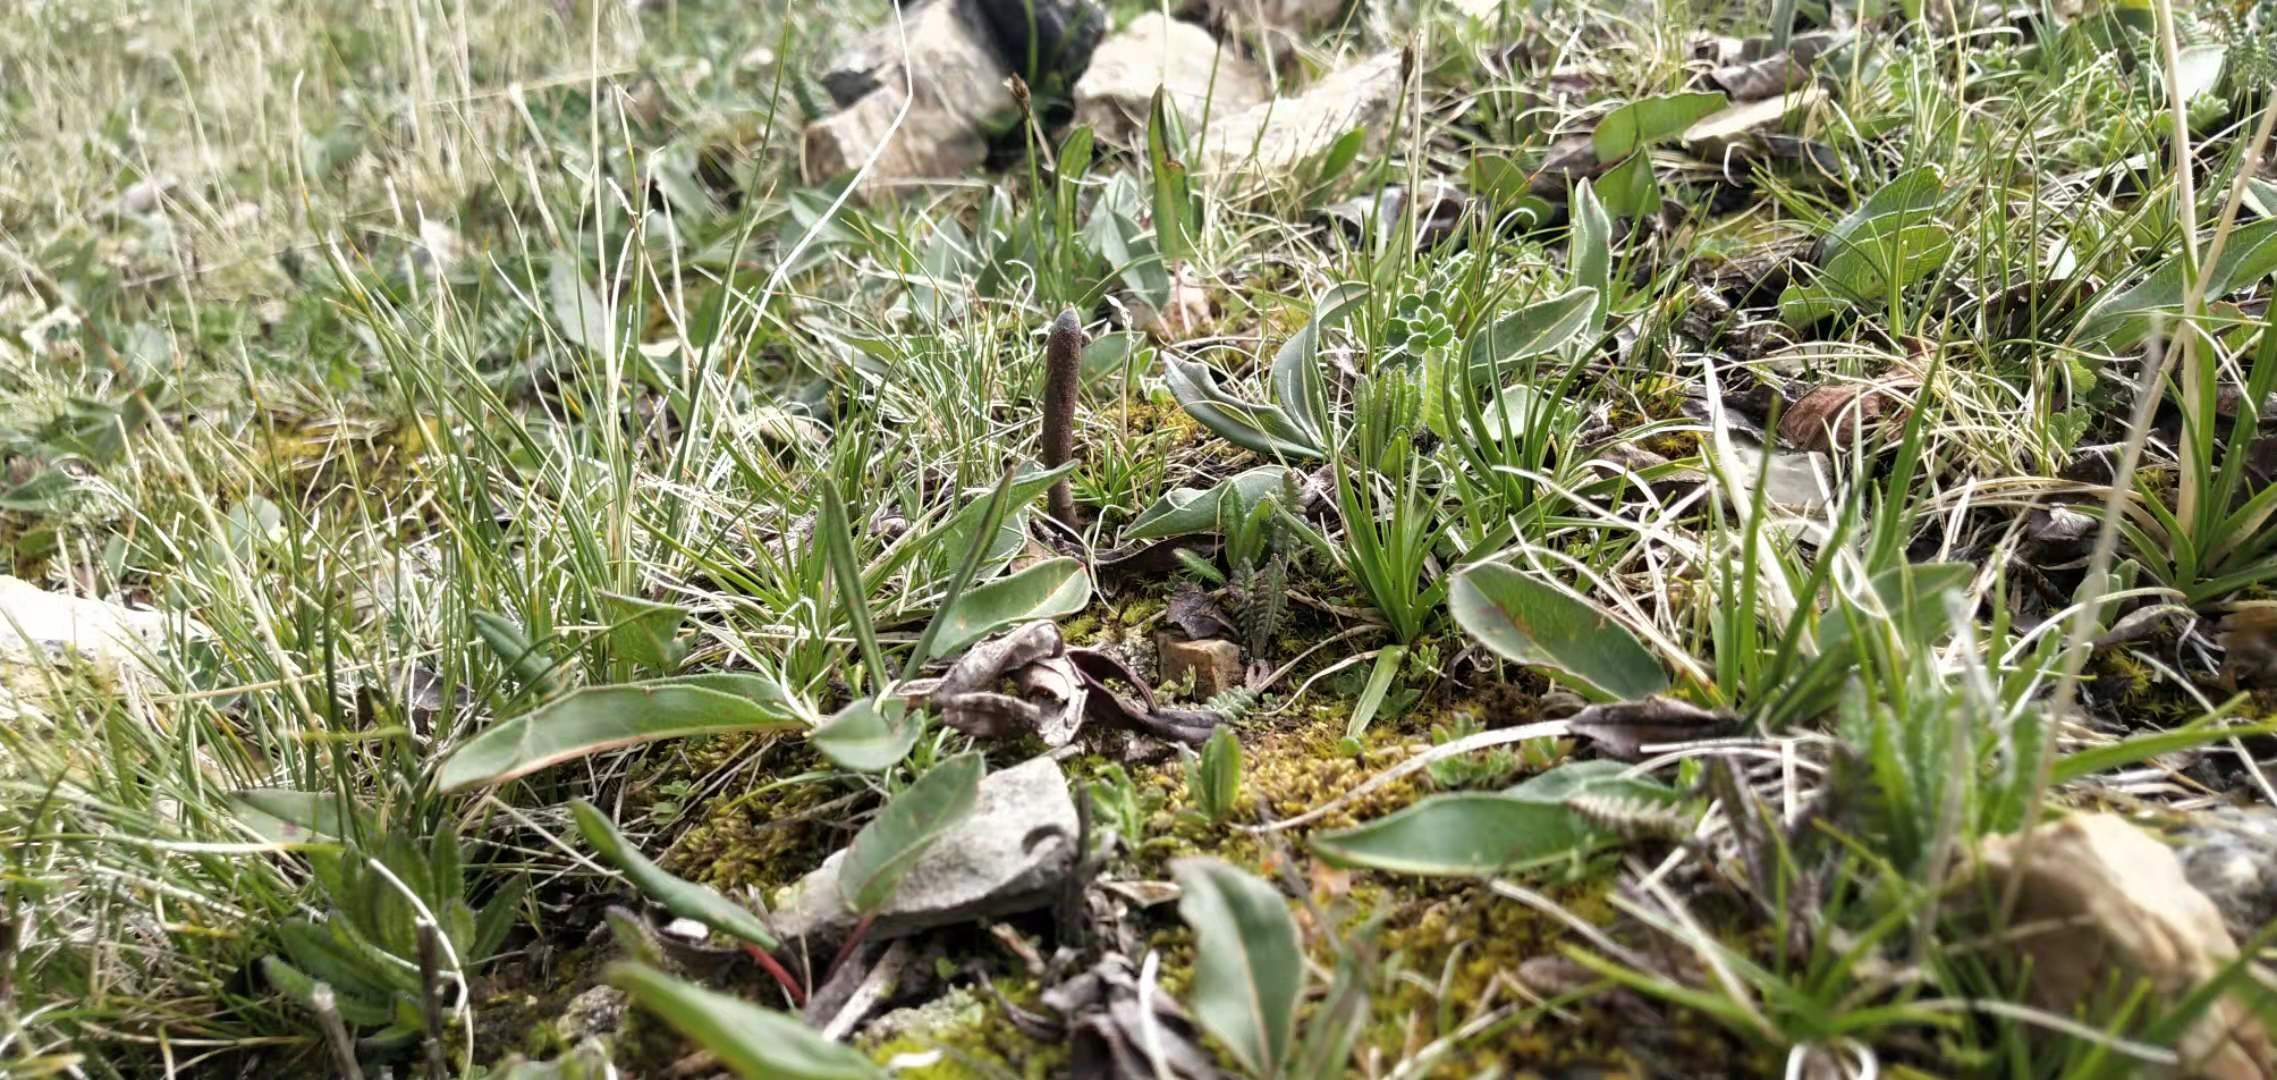Chongcao: (1046, 303, 1080, 530)
